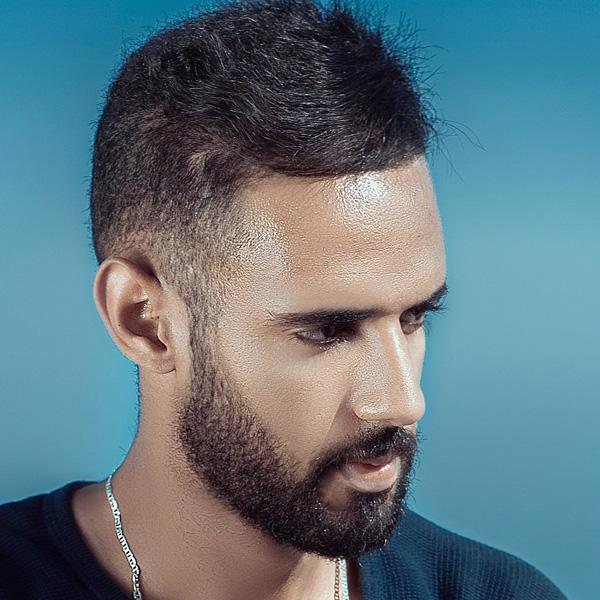Eyes: (278, 312, 362, 358), (392, 293, 439, 340)
